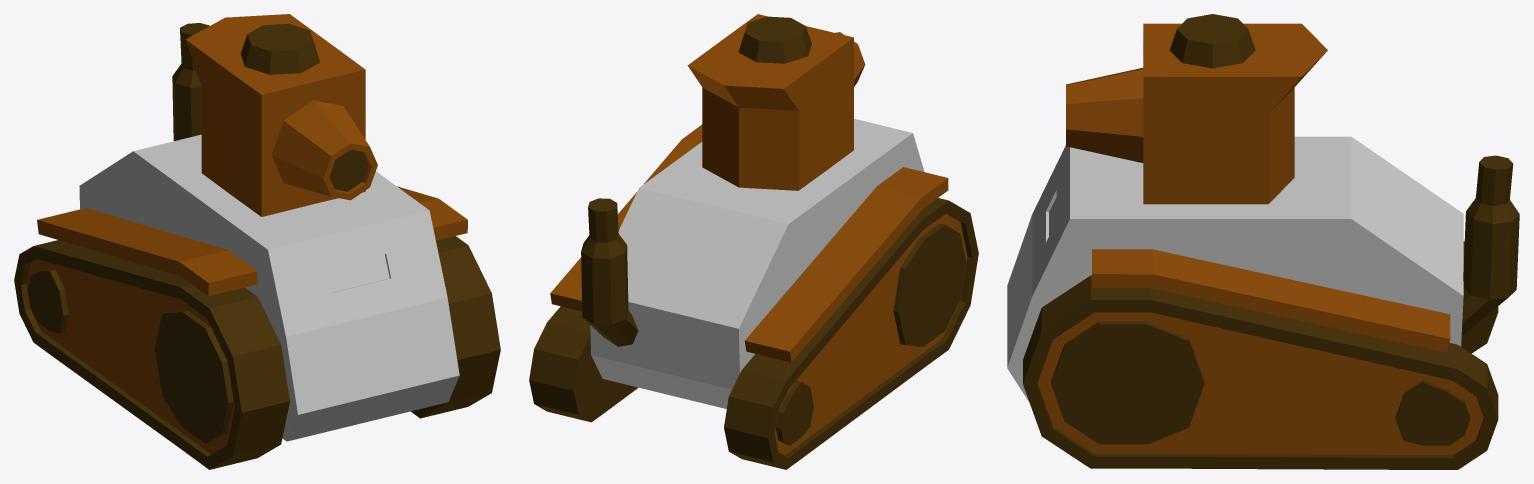
File: Player_Tank_1.fbx
3 views of the same model, side by side, from view 1: azimuth 30°, elevation 25°; view 2: azimuth 150°, elevation 25°; view 3: azimuth 270°, elevation 25° (orthographic). The views are drawn at different scales.
Parts seen in each view (by area): view 1: Body, Head; view 2: Body, Head; view 3: Body, Head.
Boxes of the visible parts, x1,y1,x2,y2 form: Body: (14,23,500,469); Head: (185,14,377,216); Body: (529,118,978,469); Head: (687,14,865,190); Body: (1007,136,1519,469); Head: (1066,14,1327,204).
Size of the model in its own units: 117 by 155 by 192.
